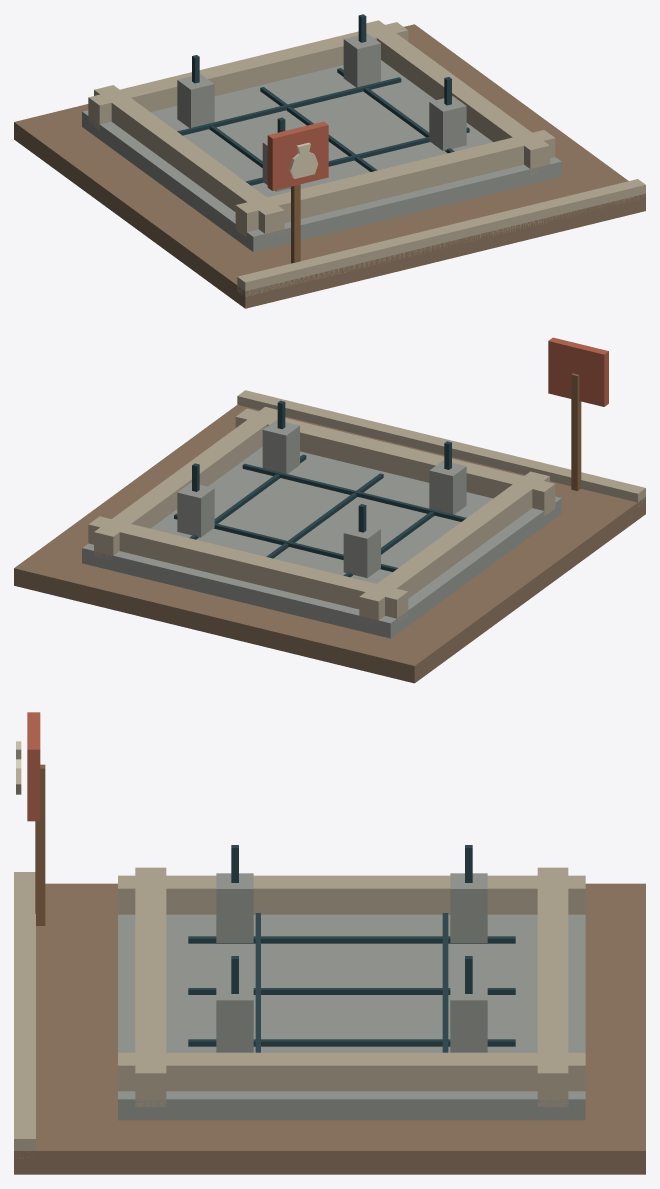
The model's file is museum-sunrise-foundation.glb.
3 renders of one model, top to bottom at view 1: azimuth 30°, elevation 25°; view 2: azimuth 150°, elevation 25°; view 3: azimuth 270°, elevation 25°, orthographic. The views are drawn at different scales.
Visible parts, largest first — view 1: museum; view 2: museum; view 3: museum.
Part boxes in pixels (box(x1,y1,x2,y2)): museum: box(14, 14, 645, 308); museum: box(14, 337, 645, 683); museum: box(14, 712, 645, 1174).
Bounding box in the file's own units: 2.88 × 1.09 × 2.88.
